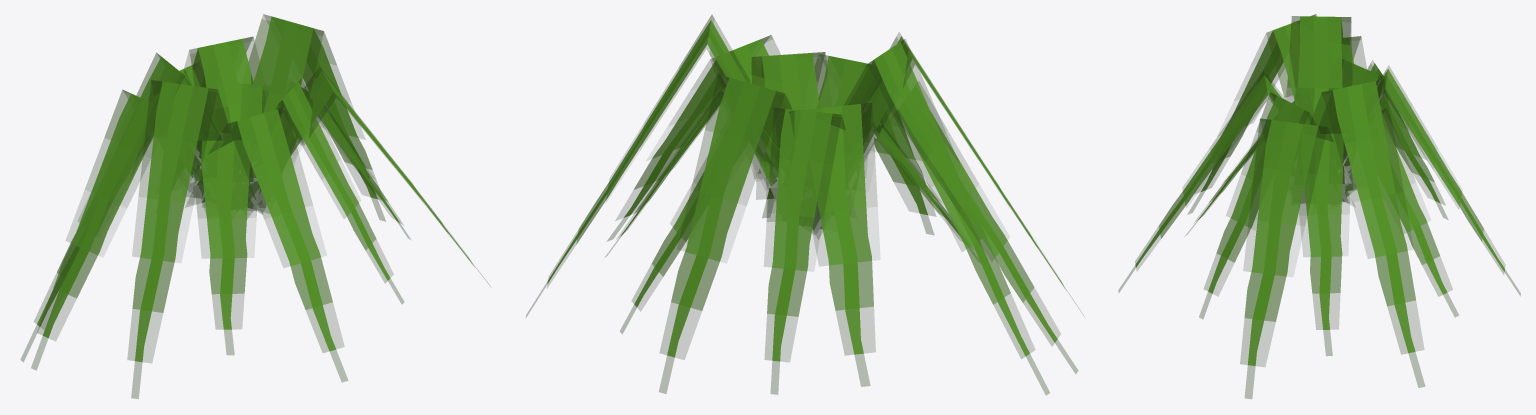
Rendered from fern_clump.glb.
The picture shows the model from 3 angles, left to right: view 1: azimuth 30°, elevation 25°; view 2: azimuth 150°, elevation 25°; view 3: azimuth 270°, elevation 25°; orthographic projection. The views are drawn at different scales.
Visible parts, largest first — view 1: fern_clump_Fern_Frond; view 2: fern_clump_Fern_Frond; view 3: fern_clump_Fern_Frond.
Part boxes in pixels (box(x1,y1,x2,y2)): fern_clump_Fern_Frond: box(20, 14, 490, 398); fern_clump_Fern_Frond: box(526, 15, 1083, 395); fern_clump_Fern_Frond: box(1118, 14, 1520, 398).
Size of the model in its own units: 2.2 by 1.26 by 1.83.
Materials: 1 (1 with a texture image).
